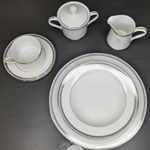cups: (2, 34, 49, 71)
